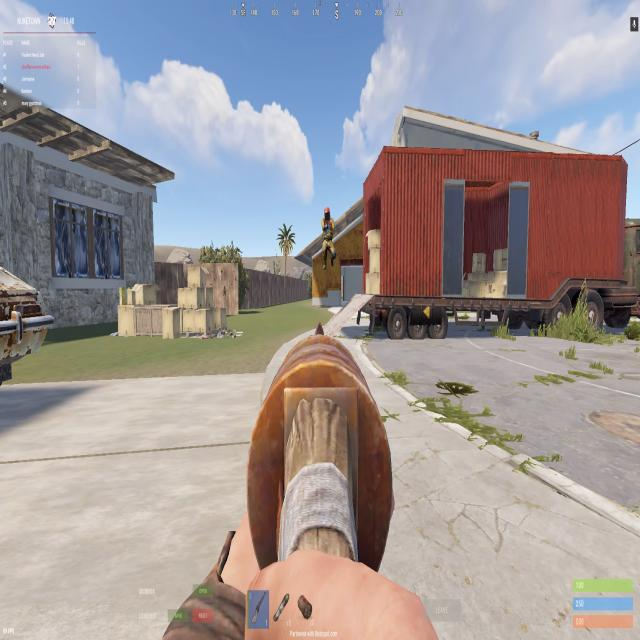Player: (319, 207, 336, 268)
